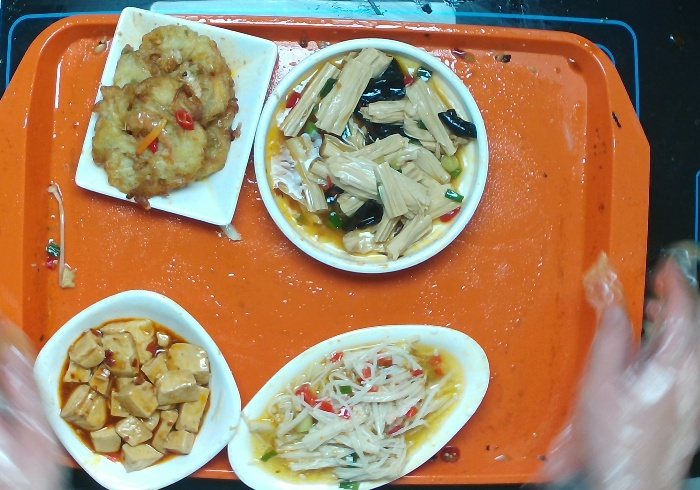HZYJPL-Si_Fang_Die: (67, 3, 278, 232)
HZYJPL-Si_Fang_Yuan_Die: (30, 288, 243, 490)
HZYJPL-Xiao_Yu_Die: (232, 323, 497, 490)
HZYJPL-Xiao_Yuan_Die: (254, 38, 488, 272)
